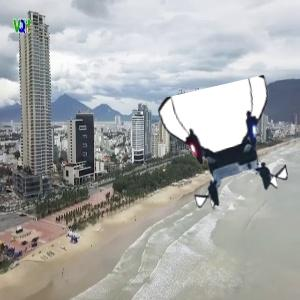drone: (167, 86, 290, 209)
